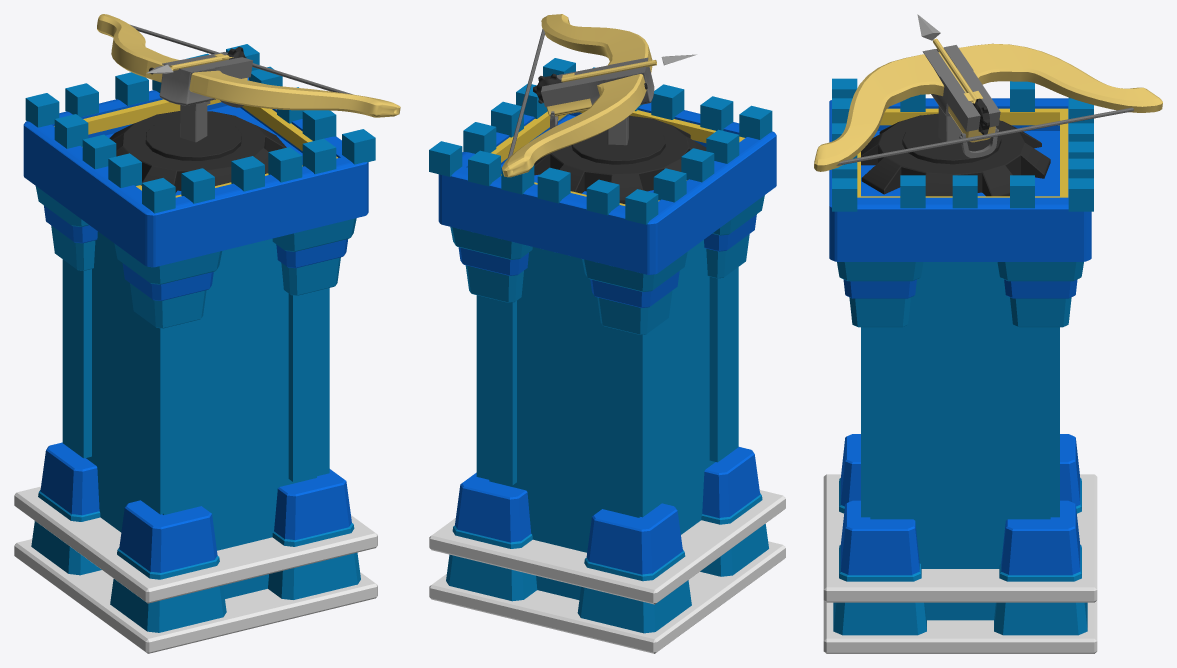
Rendered from Archer tower.fbx.
The picture shows the model from 3 angles, left to right: view 1: azimuth 30°, elevation 25°; view 2: azimuth 150°, elevation 25°; view 3: azimuth 270°, elevation 25°; orthographic projection. The views are drawn at different scales.
Visible parts, largest first — view 1: aRCHER TOWER, Arrow and bow; view 2: aRCHER TOWER, Arrow and bow; view 3: aRCHER TOWER, Arrow and bow.
Boxes of the visible parts, x1,y1,x2,y2 form: aRCHER TOWER: (14,44,377,653); Arrow and bow: (97,14,400,142); aRCHER TOWER: (429,58,785,653); Arrow and bow: (502,14,696,177); aRCHER TOWER: (823,78,1097,653); Arrow and bow: (814,14,1162,171).
Size of the model in its own units: 119 by 245 by 141.
